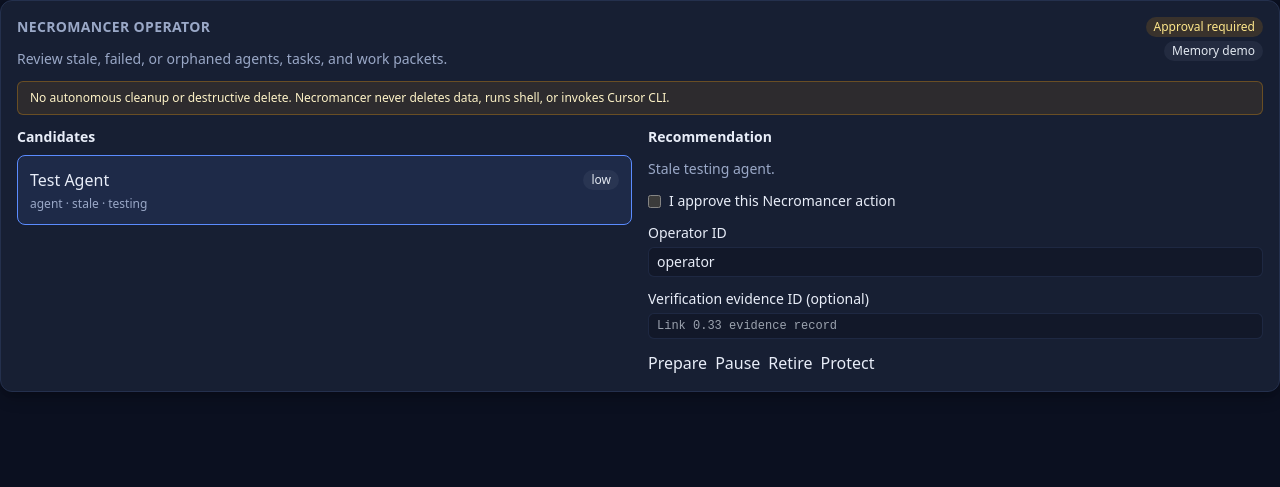
Test: NecromancerOperatorPanel › requires approval before gated actions
The image size is (1280, 487).
Expected: the text "Test Agent" is shown, [30,168,109,192]
Click the button "Pause" at (738, 363), box [715,351,760,375]
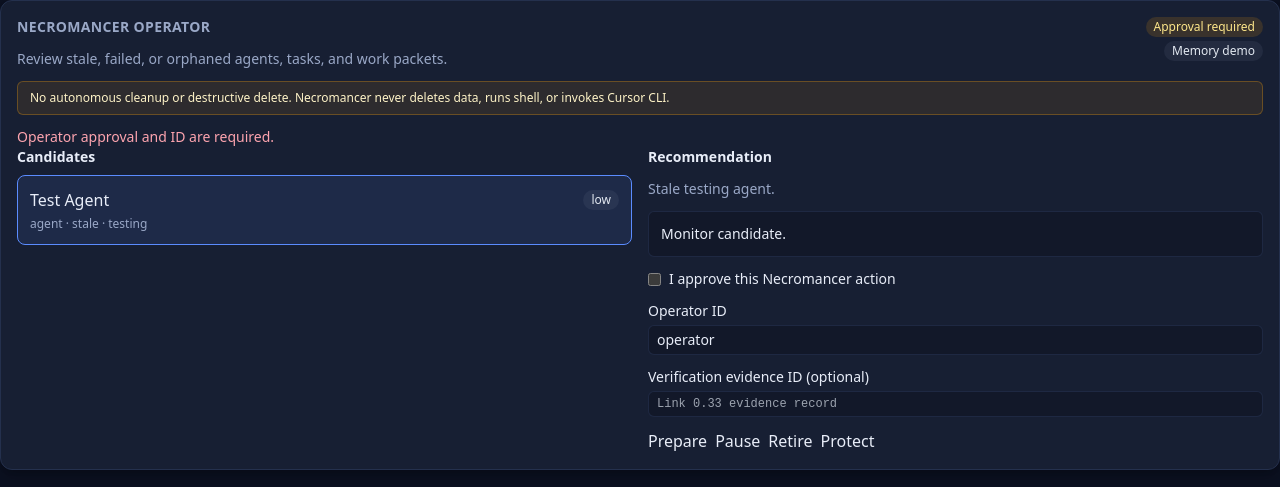
Expected: the text "Operator approval and ID are required." is shown, [17,127,274,146]
